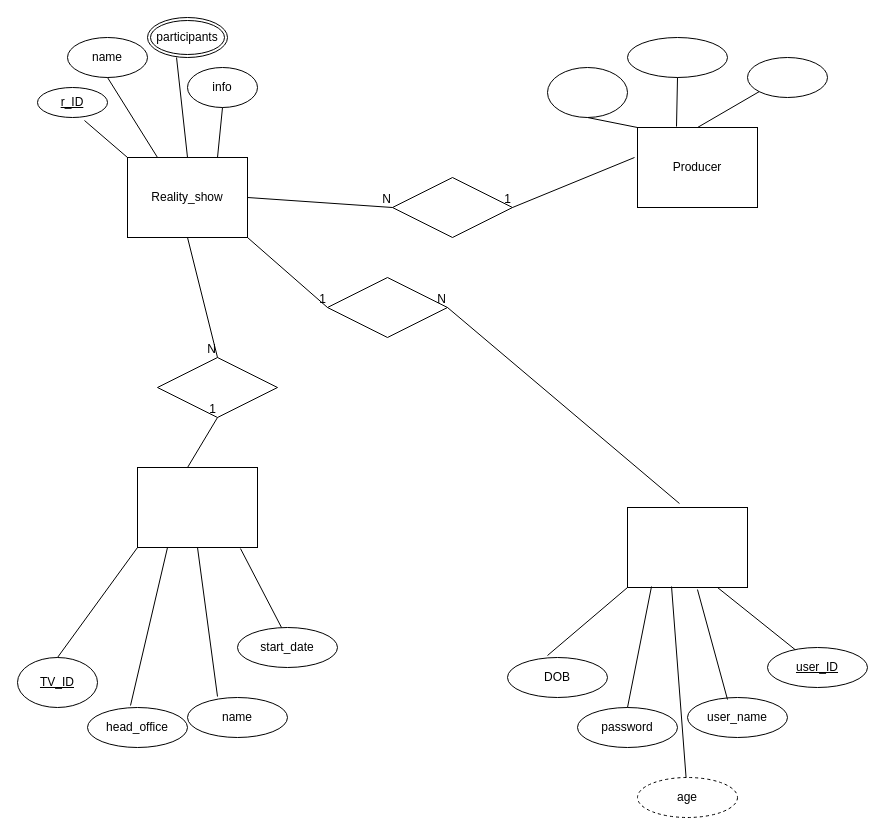
Image size: 885x835. Some labels were removed from this diagram. The shapes that lost their labels are listed below. From the top down, each one's centre as x and y in pixels, then its label:
At [677,57]: "company_name".
At [787,77]: "p_ID".
At [587,92]: "country".
At [452,207]: "is produced by".
At [387,307]: "can rate".
At [217,387]: "is broadcasted by".
At [197,507]: "TV_channel".
At [687,547]: "User".
